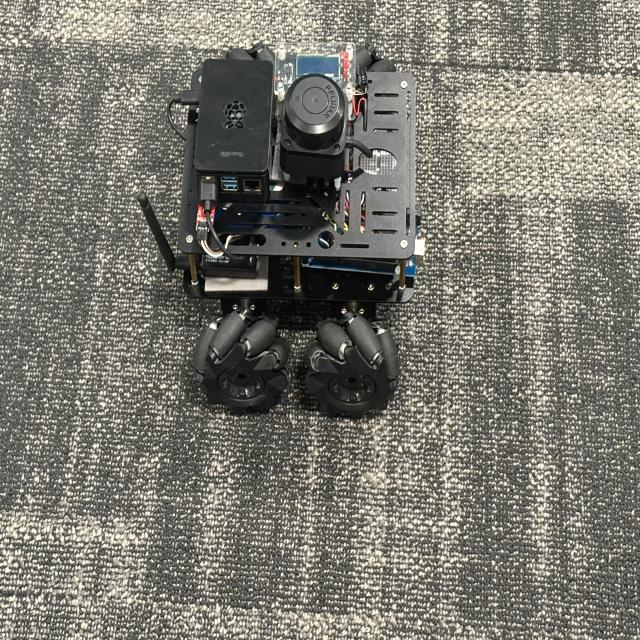ArduinoCar3: (142, 31, 432, 422)
